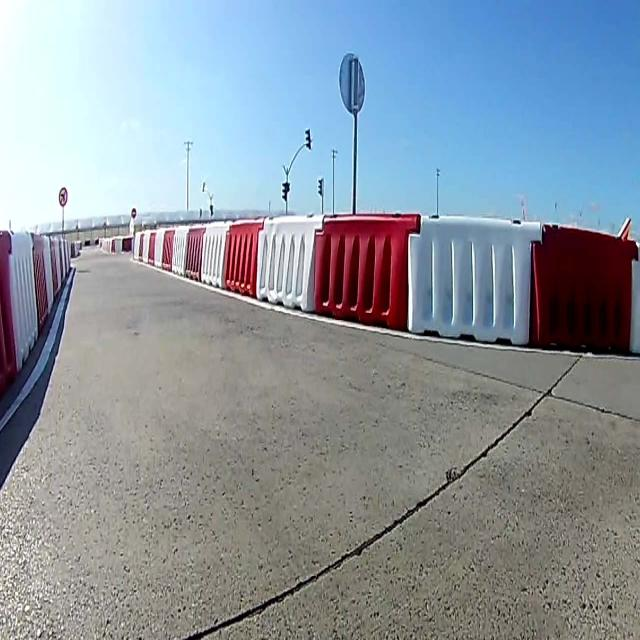soladonulmez: (59, 187, 67, 208)
